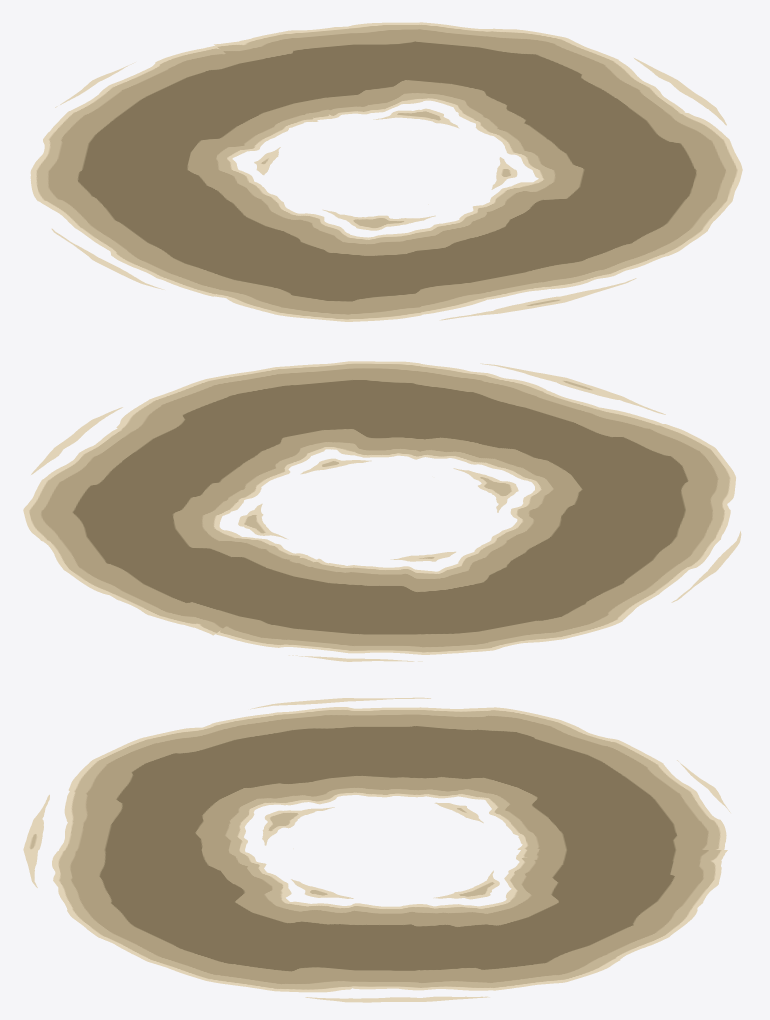
Rendered from CycloneTop.obj.
The picture shows the model from 3 angles, top to bottom: view 1: azimuth 30°, elevation 25°; view 2: azimuth 150°, elevation 25°; view 3: azimuth 270°, elevation 25°; orthographic projection.
Visible parts, largest first — view 1: cyclone001; view 2: cyclone001; view 3: cyclone001.
Boxes of the visible parts, <box> form: cyclone001: <box>30,22,742,321</box>; cyclone001: <box>23,361,741,661</box>; cyclone001: <box>23,697,730,1002</box>.
Size of the model in its own units: 95.92 by 0 by 96.45.
